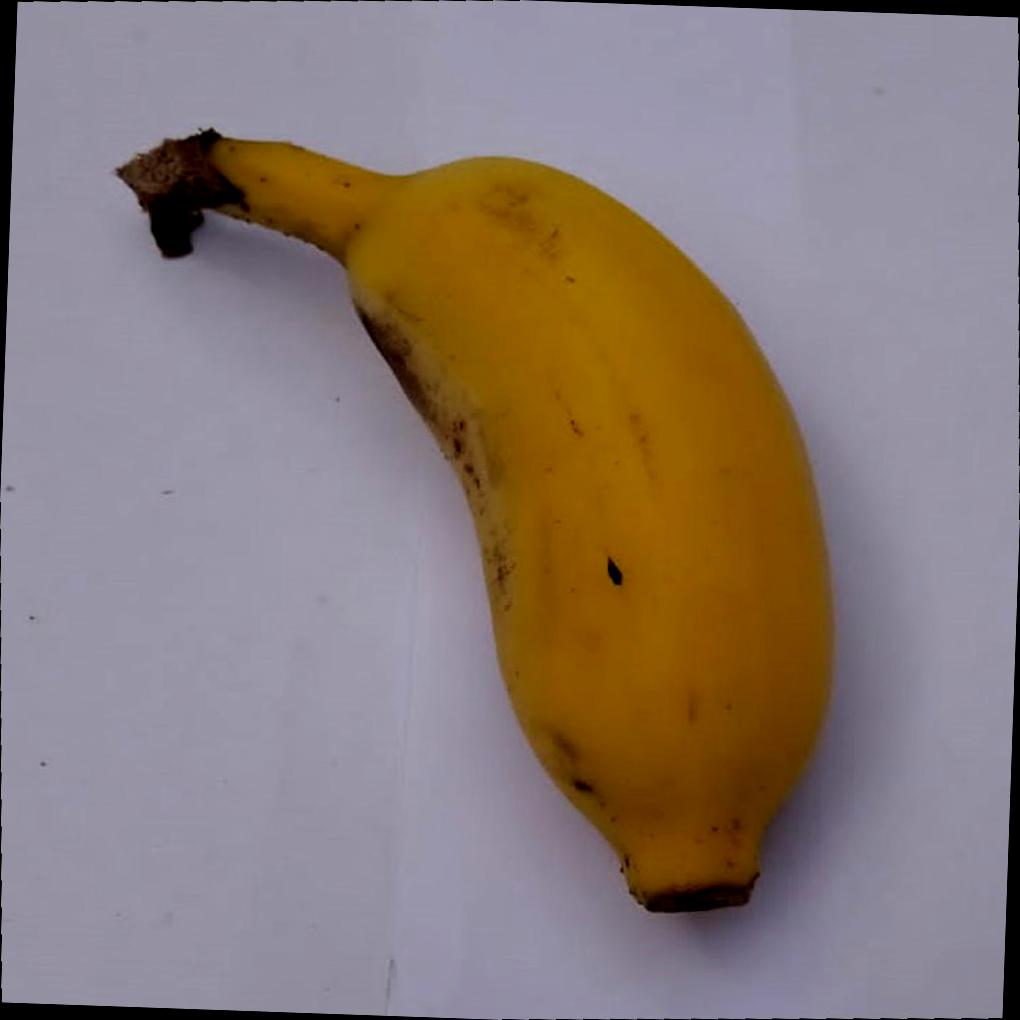Banana Ripe: (150, 85, 892, 946)
